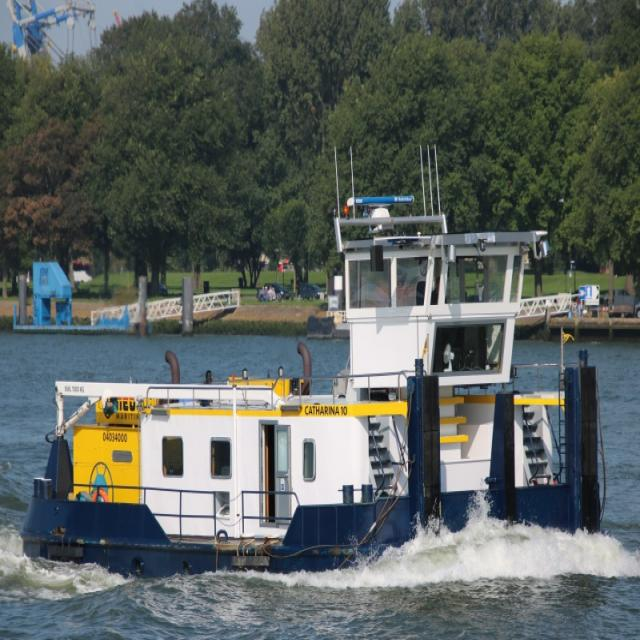tugboat: (17, 142, 610, 590)
